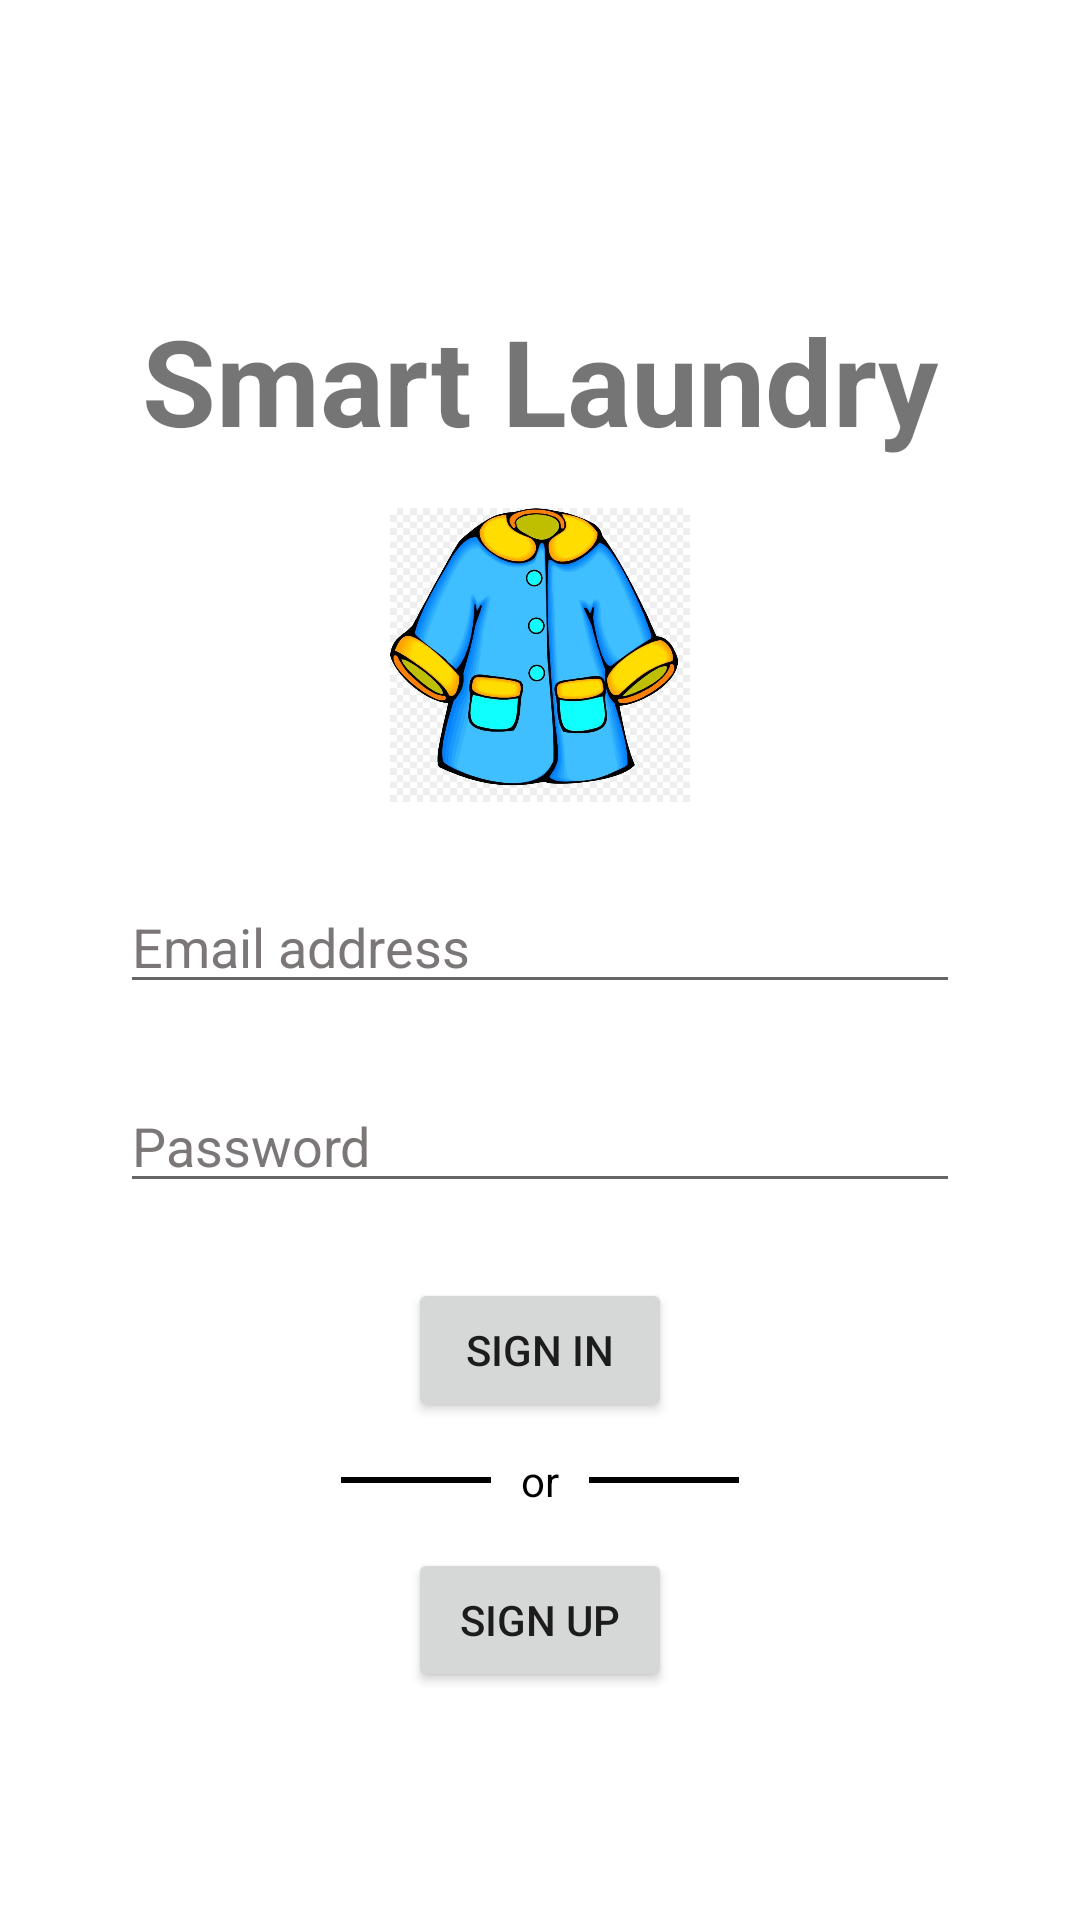

Where icons sit on this 1080px x 1920px app screen, as (x1, y1, x2, y2):
cloth: (390, 508, 678, 786)
